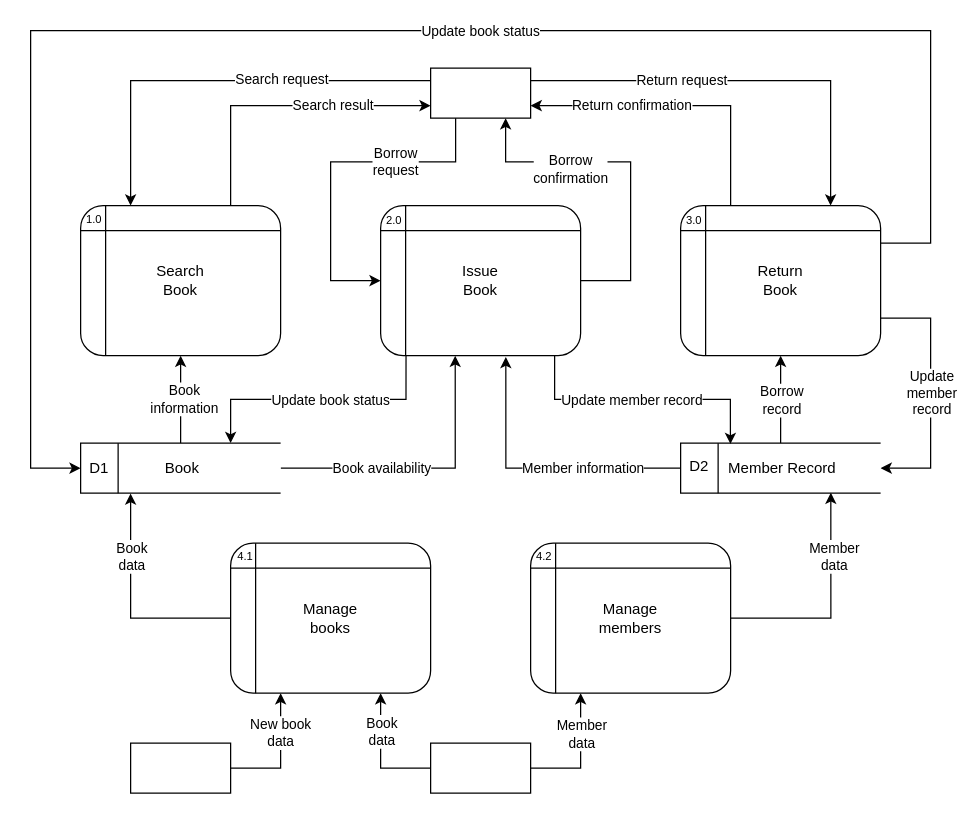
This 978x815 diagram has some shape labels left out. The centre of each missing label's shape, as x and y in pixels:
Librarian: [480,767]
Member: [480,92]
Supplier: [180,767]
